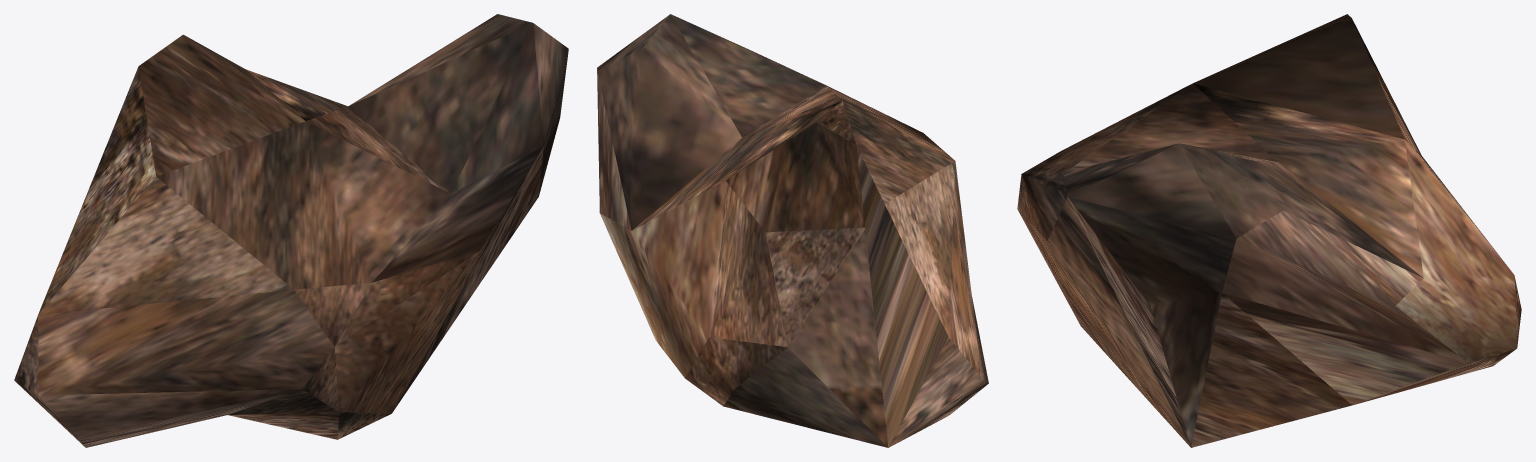
File: Asteroid 1.fbx
3 views of the same model, side by side, from view 1: azimuth 30°, elevation 25°; view 2: azimuth 150°, elevation 25°; view 3: azimuth 270°, elevation 25° (orthographic). The views are drawn at different scales.
Parts seen in each view (by area): view 1: asteroid_62; view 2: asteroid_62; view 3: asteroid_62.
Part boxes in pixels (x1,y1,x2,y2): asteroid_62: (14, 14, 568, 447); asteroid_62: (597, 14, 988, 447); asteroid_62: (1017, 14, 1521, 447).
Bounding box in the file's own units: 34.45 × 24.02 × 29.
